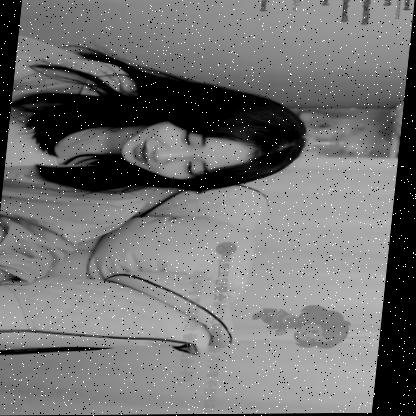donation: (182, 241, 366, 414)
streamer: (0, 33, 319, 286)
